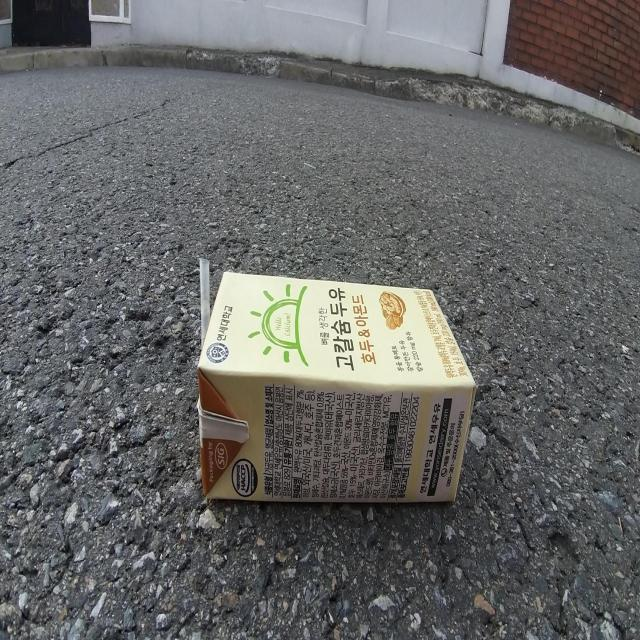paperpack: (197, 271, 476, 503)
